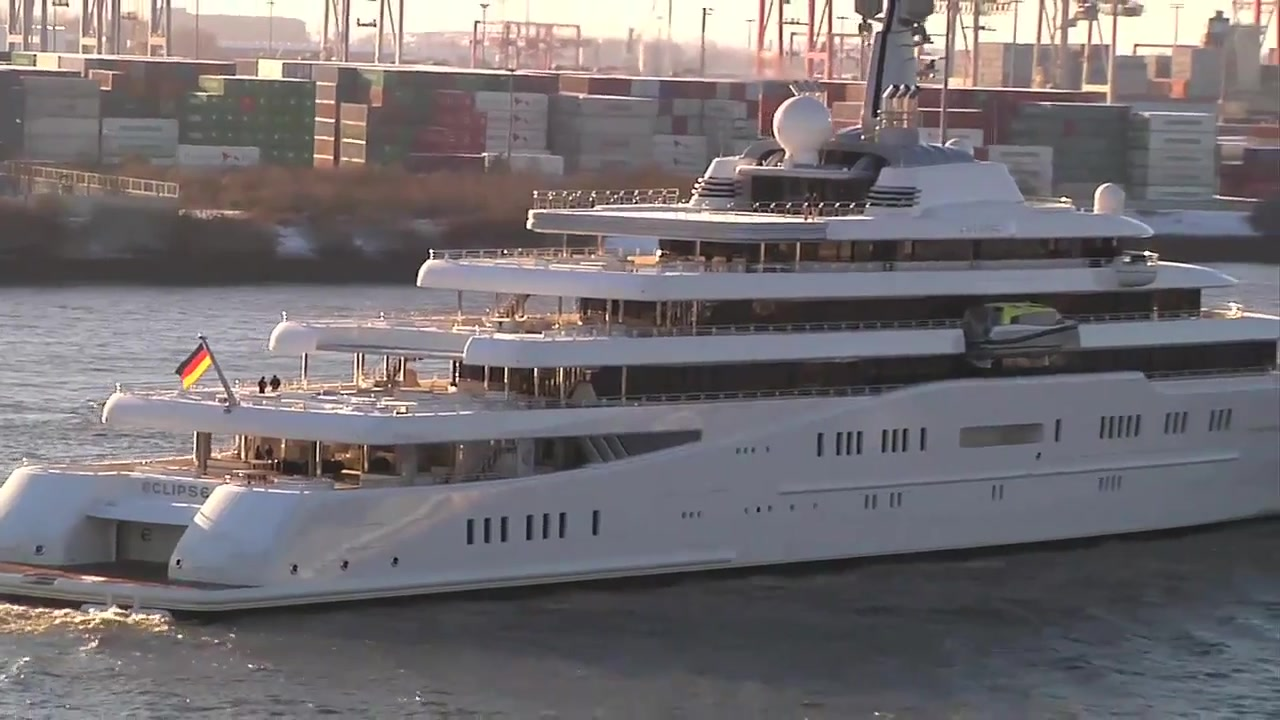boat: (1, 1, 1280, 644)
